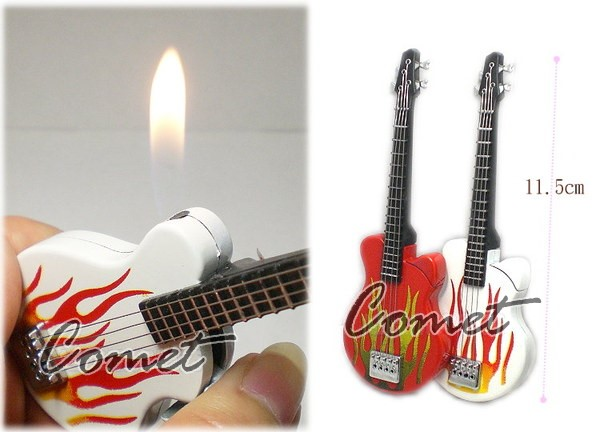Fire: (142, 46, 192, 209)
